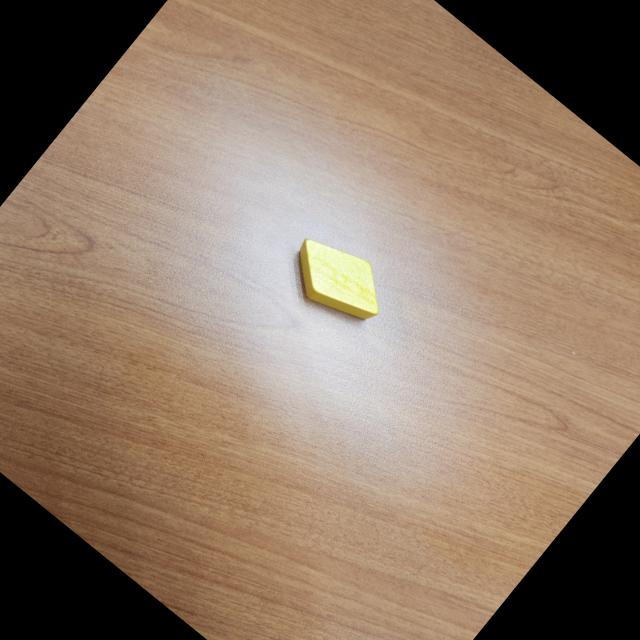yellow: (275, 222, 400, 341)
